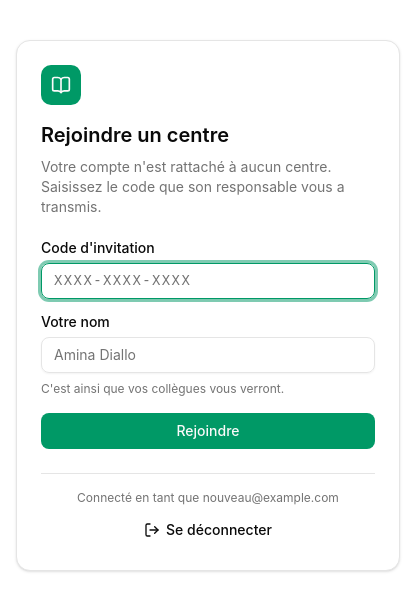
Test: RejoindreCentrePage › exige un nom affiché
The width and height of the screenshot is (417, 613).
Type "BP3Q-DNS5-WEQZ" into the field labelled "Code d'invitation". click: coordinates (208, 280)
box: [41, 262, 375, 298]
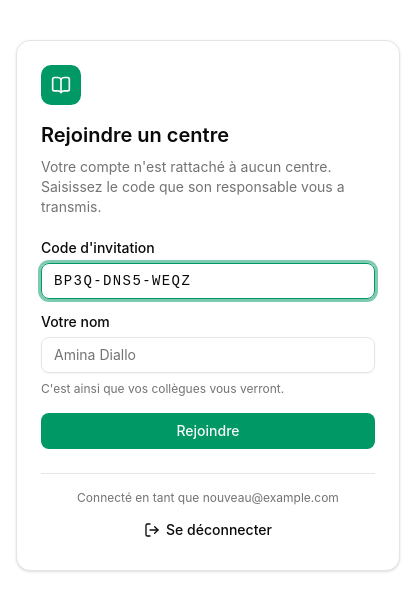
Click the button "Rejoindre". click: coordinates (208, 430)
box: [41, 412, 375, 448]
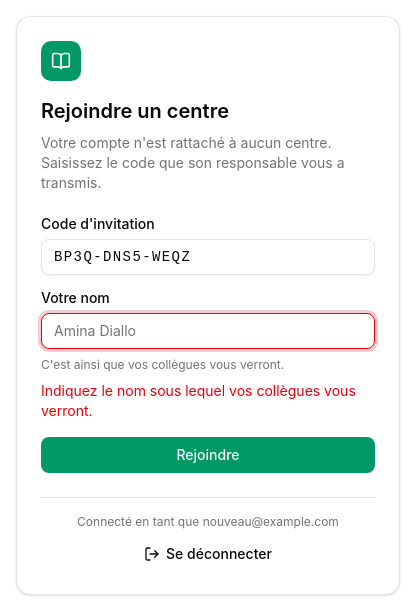
Now the text "Indiquez le nom sous lequel vos collègues vous verront." is shown, box [41, 380, 375, 420]
